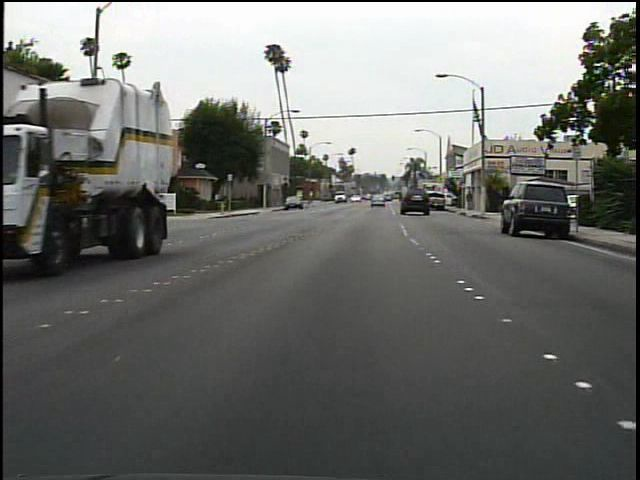person: (461, 187, 478, 216)
